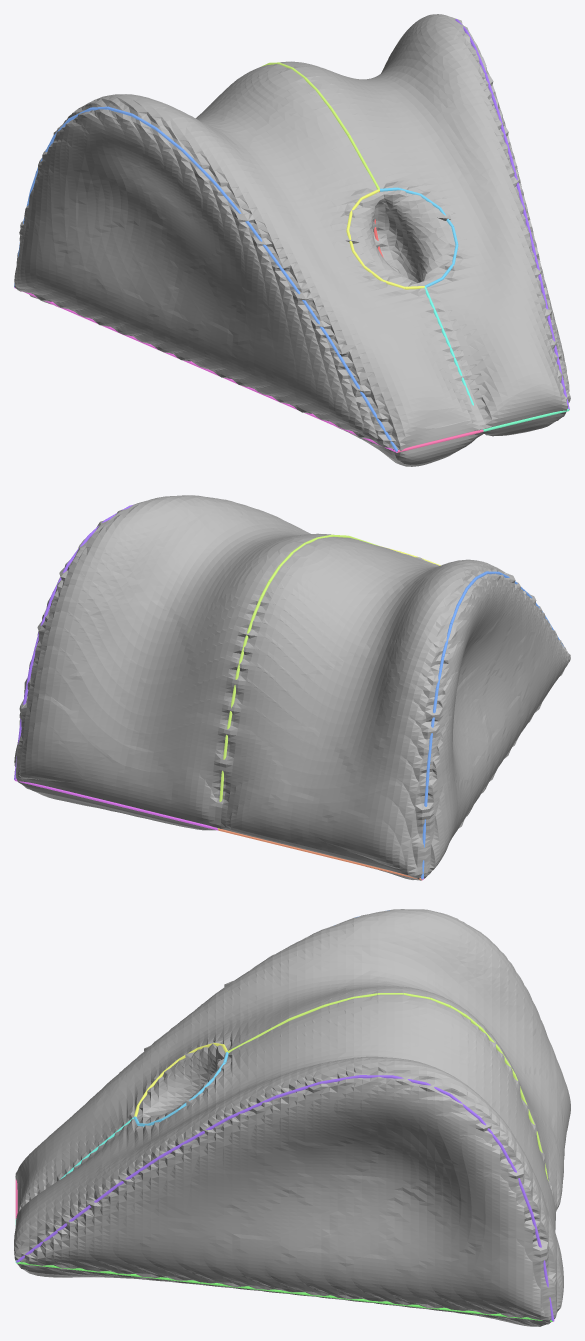
The model's file is onshape_simple_mouse.gltf.
3 renders of one model, top to bottom at view 1: azimuth 30°, elevation 25°; view 2: azimuth 150°, elevation 25°; view 3: azimuth 270°, elevation 25°, orthographic.
Bounding box in the file's own units: 0.6547 × 0.3841 × 0.7336.
